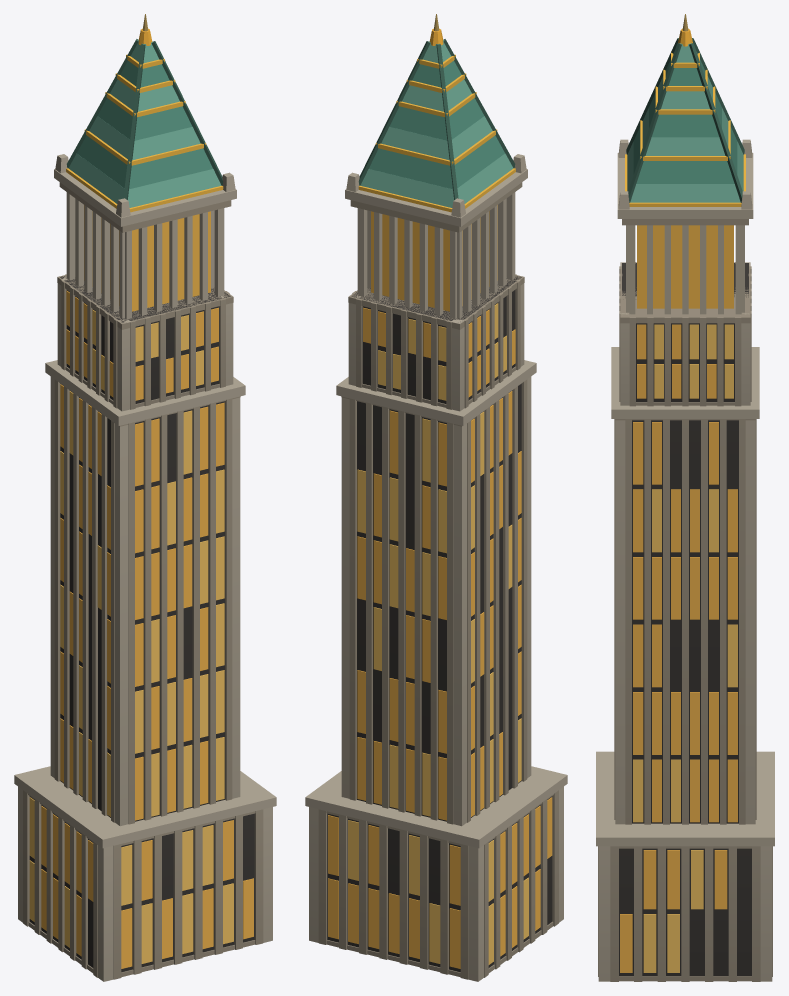
File: pyramid_tower.glb
3 renders of one model, left to right at view 1: azimuth 30°, elevation 25°; view 2: azimuth 150°, elevation 25°; view 3: azimuth 270°, elevation 25°, orthographic.
Parts seen in each view (by area): view 1: pyramid_tower; view 2: pyramid_tower; view 3: pyramid_tower.
Part boxes in pixels (<box>): pyramid_tower: <box>14,14,276,981</box>; pyramid_tower: <box>305,14,567,981</box>; pyramid_tower: <box>596,14,774,981</box>.
Size of the model in its own units: 50.4 by 254 by 44.4.
